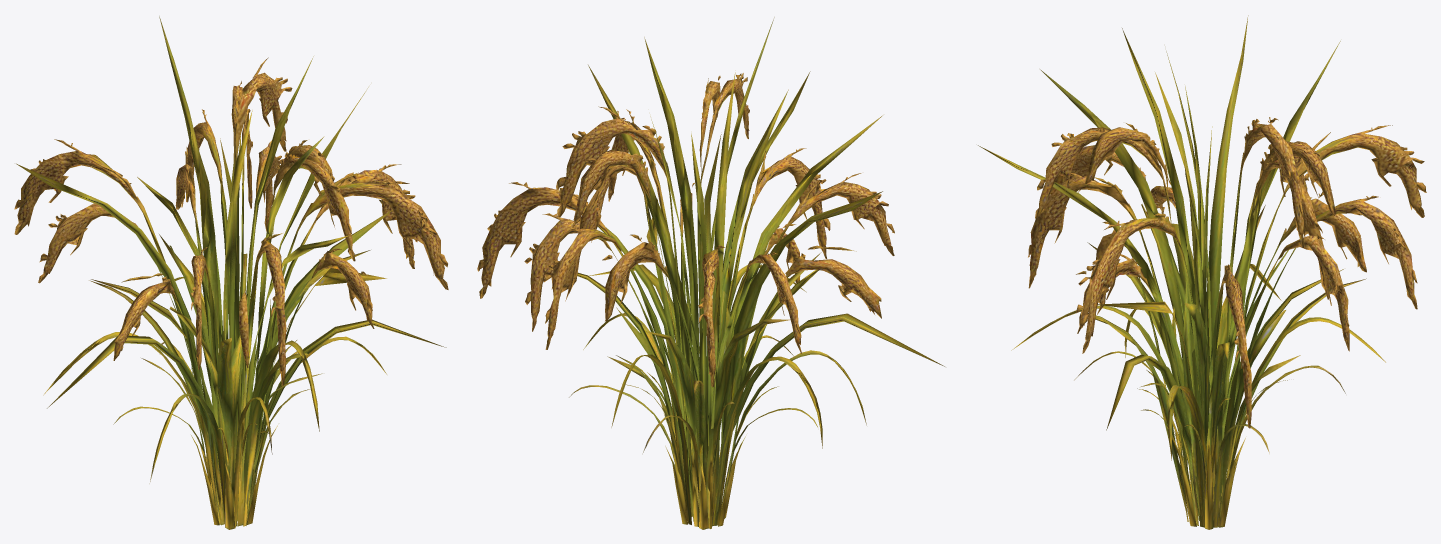
The model's file is suitou_004.glb.
3 views of the same model, side by side, from view 1: azimuth 30°, elevation 25°; view 2: azimuth 150°, elevation 25°; view 3: azimuth 270°, elevation 25° (orthographic). The views are drawn at different scales.
Parts seen in each view (by area): view 1: tripo_node_b9435390-1f1e-4c3b-8742-45f522078452; view 2: tripo_node_b9435390-1f1e-4c3b-8742-45f522078452; view 3: tripo_node_b9435390-1f1e-4c3b-8742-45f522078452.
Part boxes in pixels (box(x1,y1,x2,y2)): tripo_node_b9435390-1f1e-4c3b-8742-45f522078452: box(14, 16, 448, 529); tripo_node_b9435390-1f1e-4c3b-8742-45f522078452: box(477, 17, 944, 529); tripo_node_b9435390-1f1e-4c3b-8742-45f522078452: box(978, 15, 1426, 529).
Size of the model in its own units: 0.5718 by 0.6 by 0.5131.
1 material, 1 textured.
